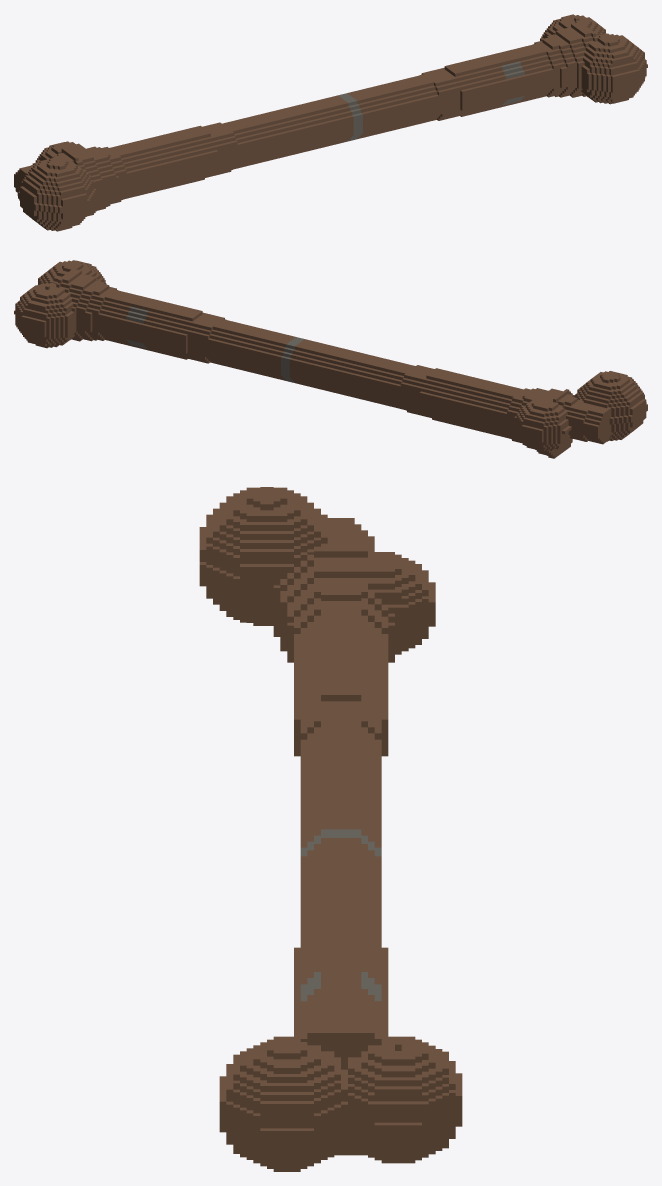
File: large_bone_fossil.glb
3 views of the same model, one above another, from view 1: azimuth 30°, elevation 25°; view 2: azimuth 150°, elevation 25°; view 3: azimuth 270°, elevation 25° (orthographic). The views are drawn at different scales.
Parts seen in each view (by area): view 1: large_bone_fossil:compound; view 2: large_bone_fossil:compound; view 3: large_bone_fossil:compound.
Boxes of the visible parts, <box> form: large_bone_fossil:compound: <box>14,14,647,231</box>; large_bone_fossil:compound: <box>14,260,647,458</box>; large_bone_fossil:compound: <box>199,487,462,1171</box>.
Bounding box in the file's own units: 2.03 × 0.24 × 0.39.
